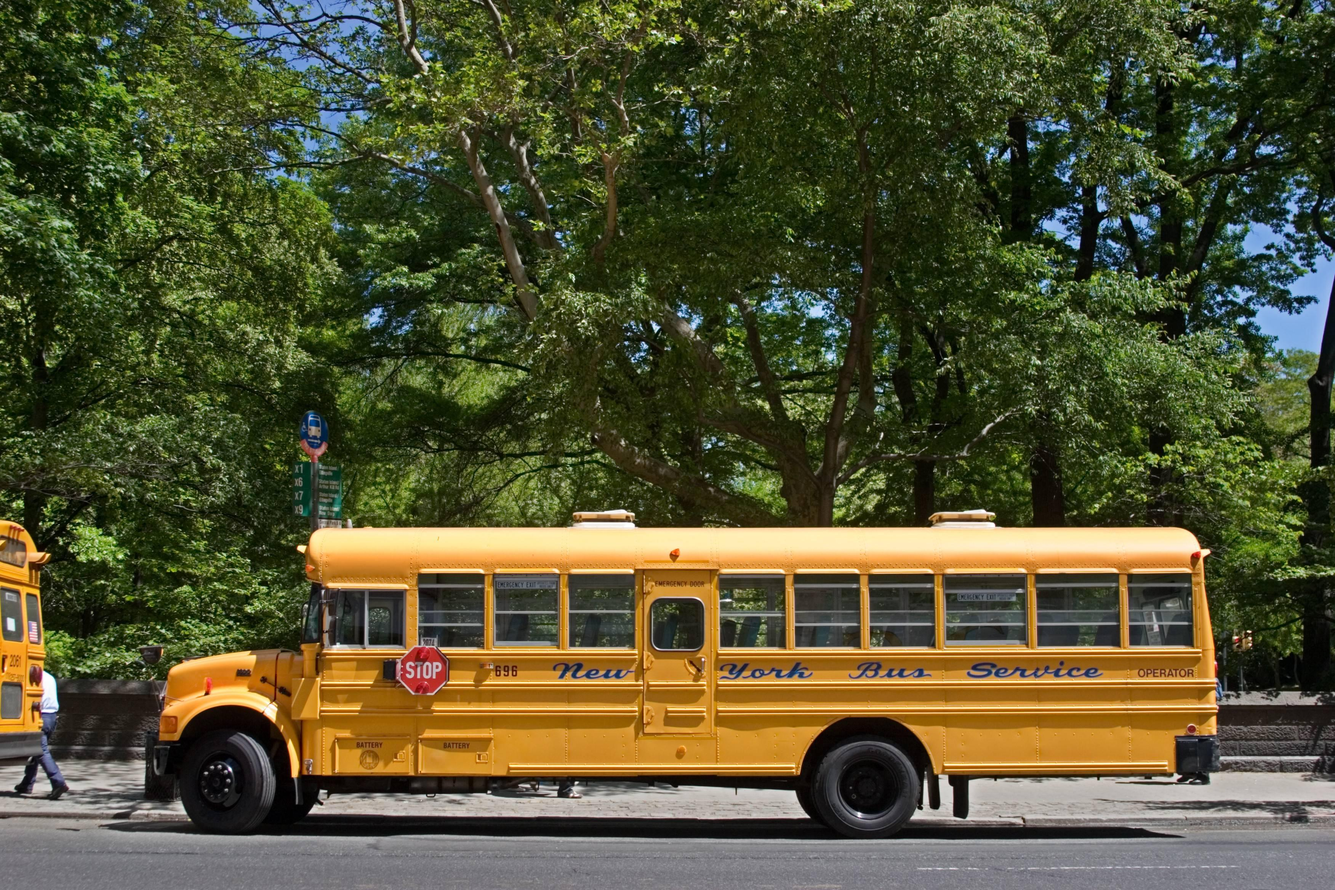Bus: (146, 515, 1221, 839)
